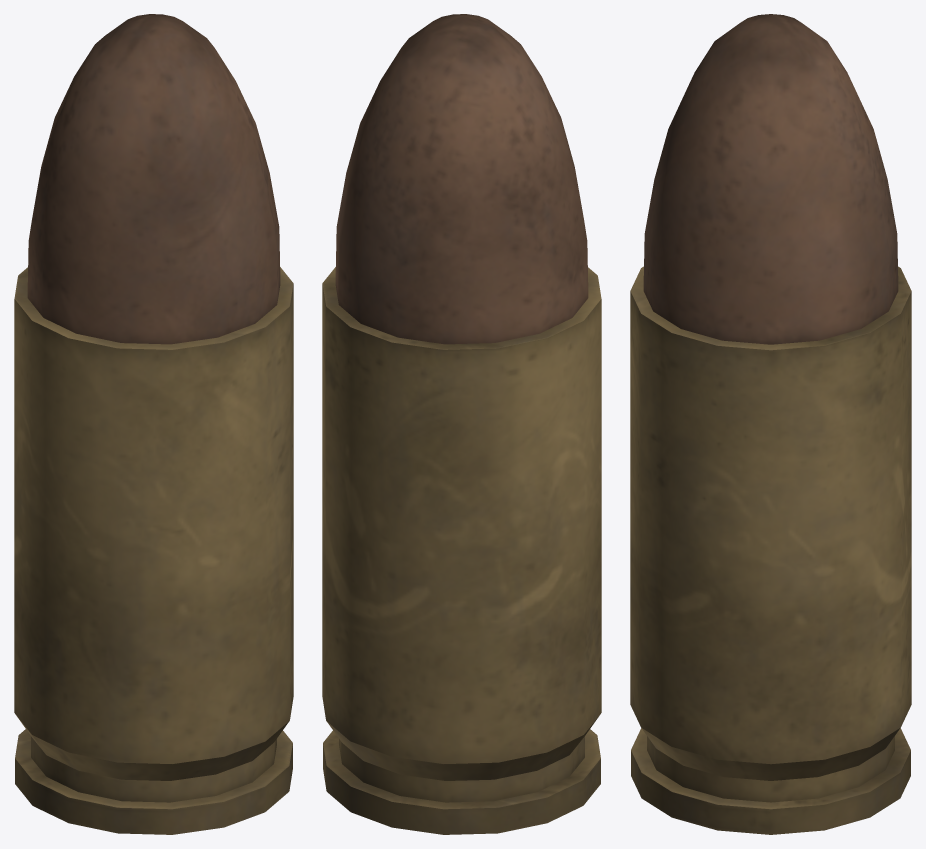
File: 9x19mm FMJ M882.glb
The picture shows the model from 3 angles, left to right: view 1: azimuth 30°, elevation 25°; view 2: azimuth 150°, elevation 25°; view 3: azimuth 270°, elevation 25°; orthographic projection.
Parts seen in each view (by area): view 1: 9mm; view 2: 9mm; view 3: 9mm.
Part boxes in pixels (<box>): 9mm: <box>14,14,293,834</box>; 9mm: <box>322,14,601,834</box>; 9mm: <box>630,14,911,834</box>.
Size of the model in its own units: 0.1642 by 0.4882 by 0.1642.
Materials: 1 (1 with a texture image).
